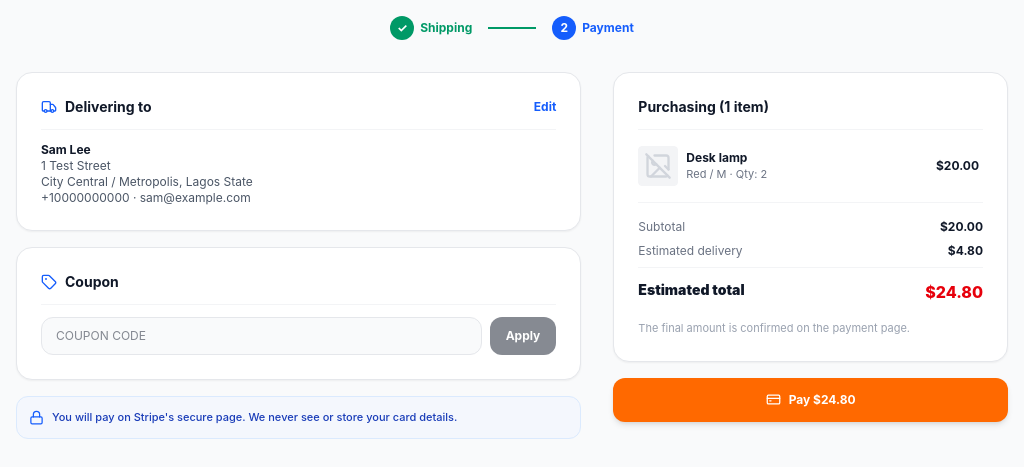
Test: Checkout page › coupon › previews the discount and lowers the estimated total
Type "save10" into the field labelled "Coupon code" at (261, 336), box [41,317,482,355]
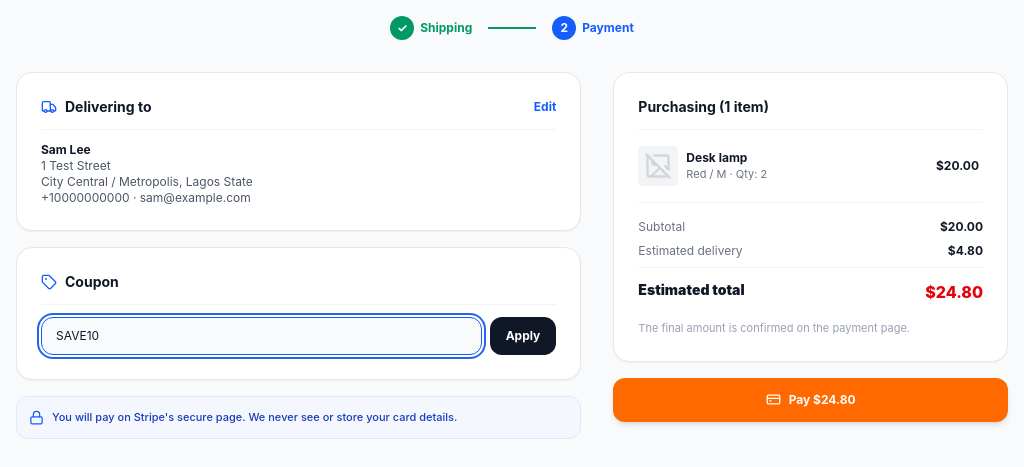
Click the button "Apply" at (523, 336), box [490,317,556,355]
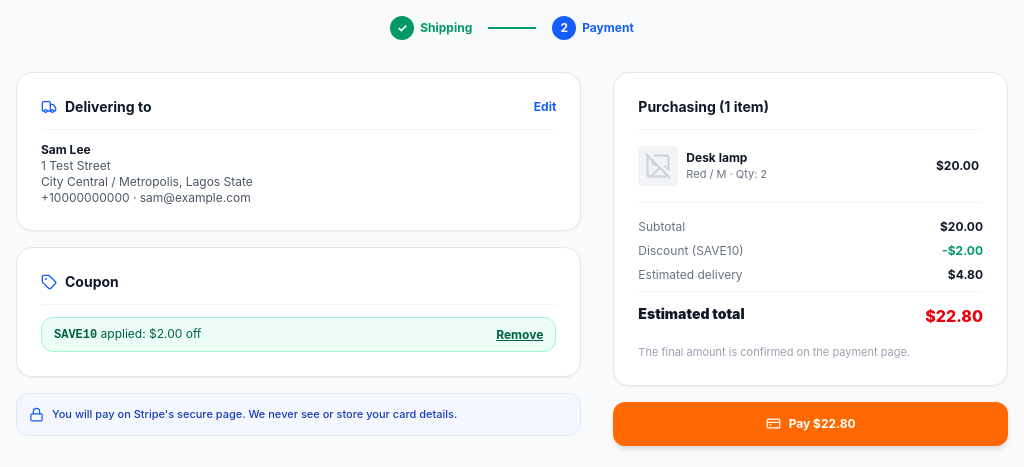
Expected: the text "SAVE10 applied: $2.00 off" is shown, [54,326,201,343]
Expected: the text "-$2.00" is shown, [942,243,983,259]
Expected: the button "Pay $22.80" is shown, [613,402,1008,446]
